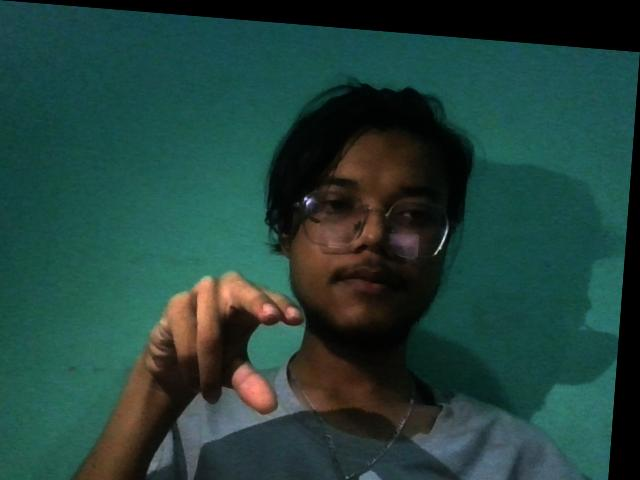No: (123, 248, 330, 428)
